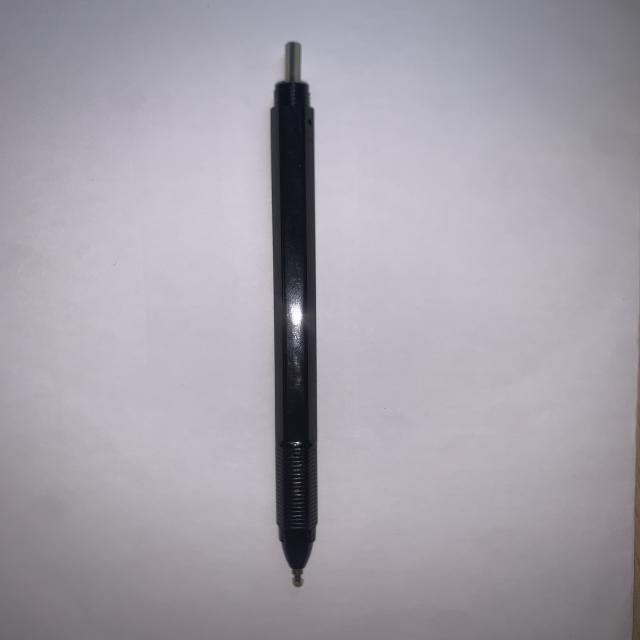Pulpen: (237, 29, 349, 603)
